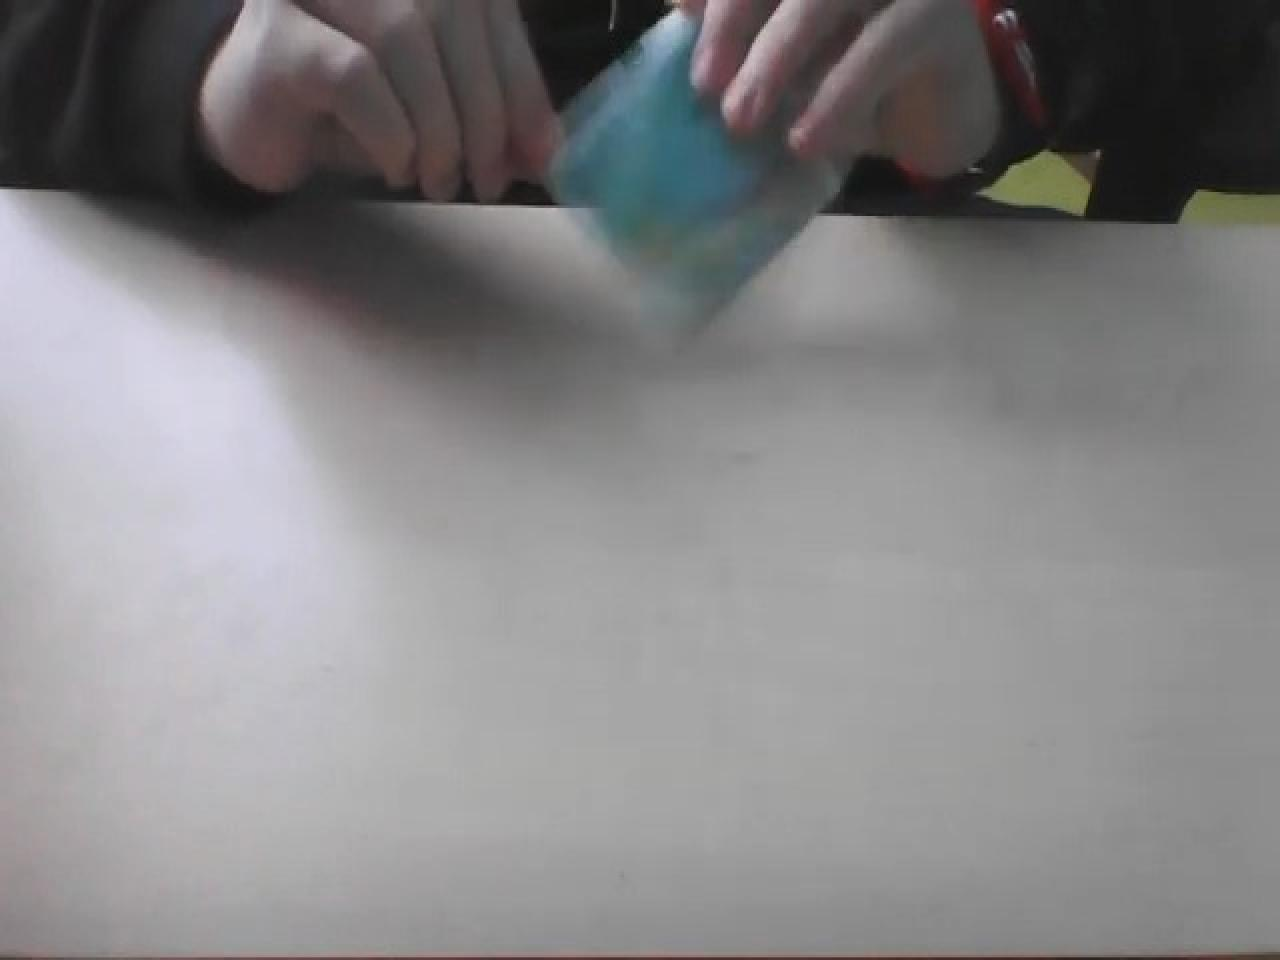100leva: (542, 5, 852, 352)
